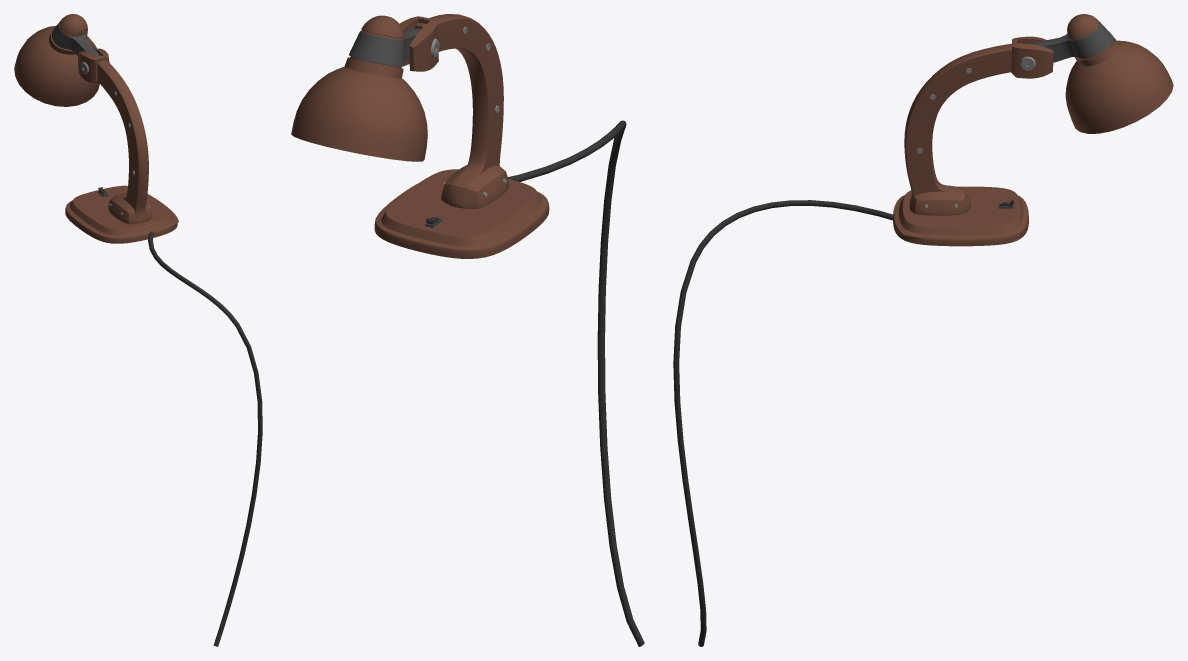
Rendered from soviet lamp.fbx.
3 views of the same model, side by side, from view 1: azimuth 30°, elevation 25°; view 2: azimuth 150°, elevation 25°; view 3: azimuth 270°, elevation 25° (orthographic). The views are drawn at different scales.
Parts seen in each view (by area): view 1: Sphere.004, Sphere.001; view 2: Sphere.004, Sphere.001; view 3: Sphere.004, Sphere.001.
Part boxes in pixels (box(x1,y1,x2,y2)): Sphere.004: box(65, 48, 262, 646); Sphere.001: box(14, 14, 99, 106); Sphere.004: box(374, 14, 644, 646); Sphere.001: box(291, 15, 427, 161); Sphere.004: box(673, 36, 1053, 646); Sphere.001: box(1028, 14, 1173, 133).
Size of the model in its own units: 22.55 by 133 by 94.58.
